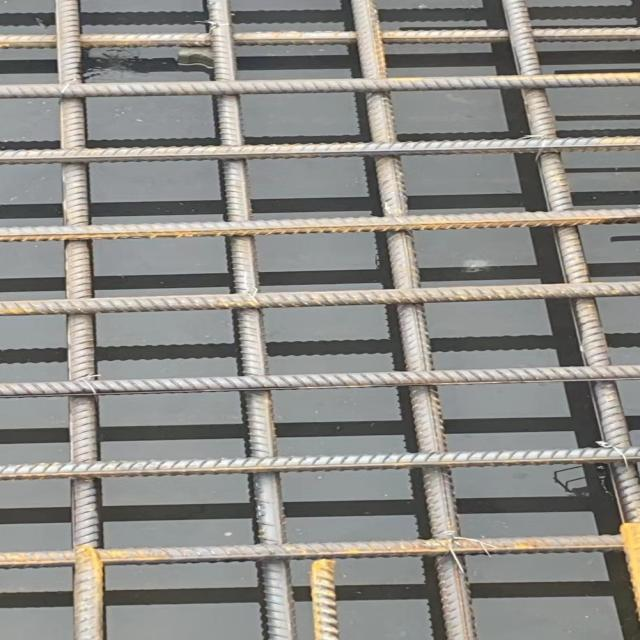ribbed bar: (499, 0, 638, 615), (348, 0, 479, 639), (205, 0, 299, 639), (56, 0, 106, 639), (0, 280, 639, 317), (0, 362, 639, 399), (0, 534, 625, 571), (0, 445, 639, 481), (0, 207, 639, 242), (0, 135, 639, 164), (0, 70, 639, 98), (0, 26, 639, 50), (310, 561, 339, 640)
